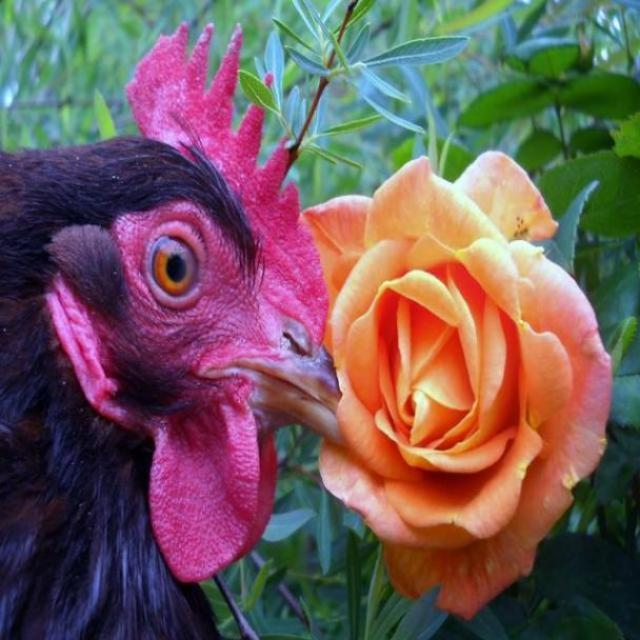Chicken: (0, 18, 348, 640)
